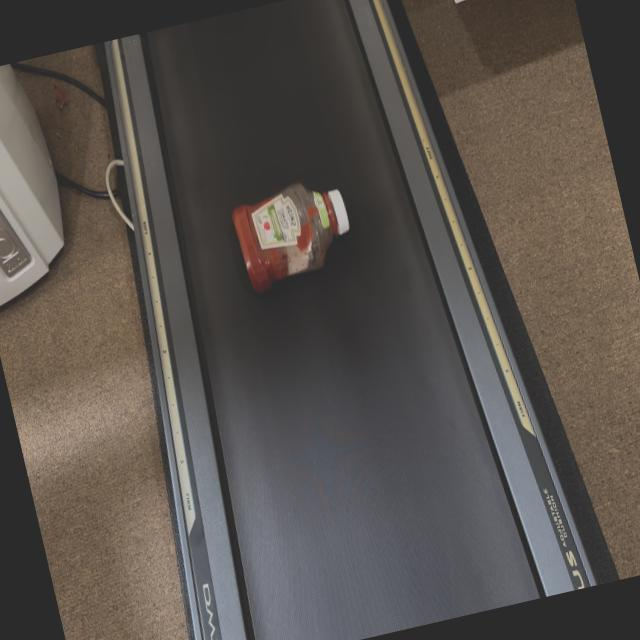Trash: (228, 174, 360, 294)
